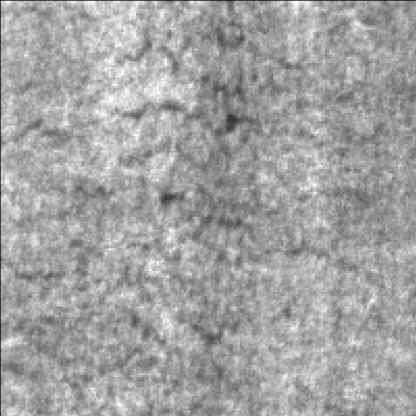crazing: (17, 272, 242, 394), (123, 36, 289, 140), (186, 187, 376, 277)
